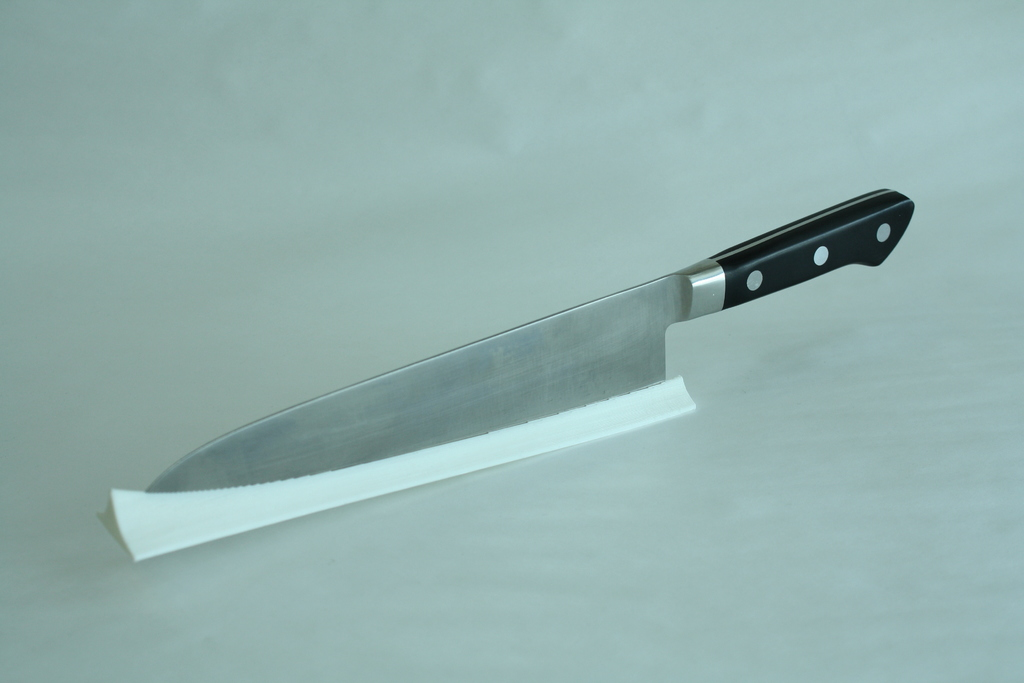kitchen knife: (138, 183, 915, 490)
